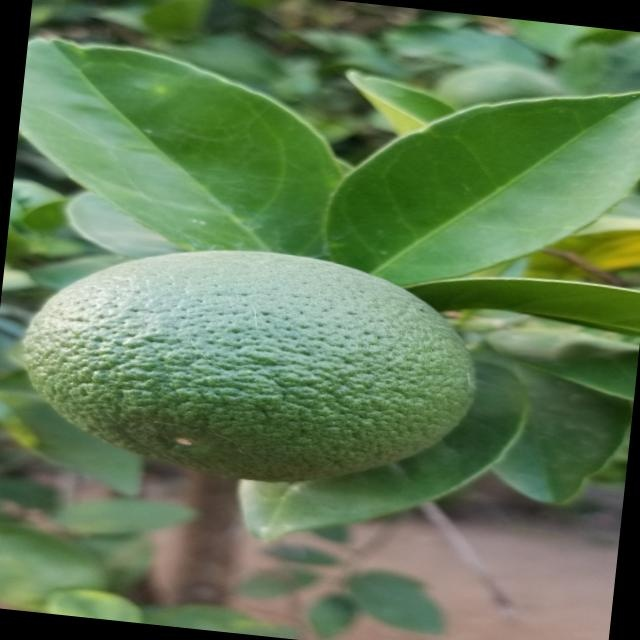agrume: (0, 221, 495, 512)
